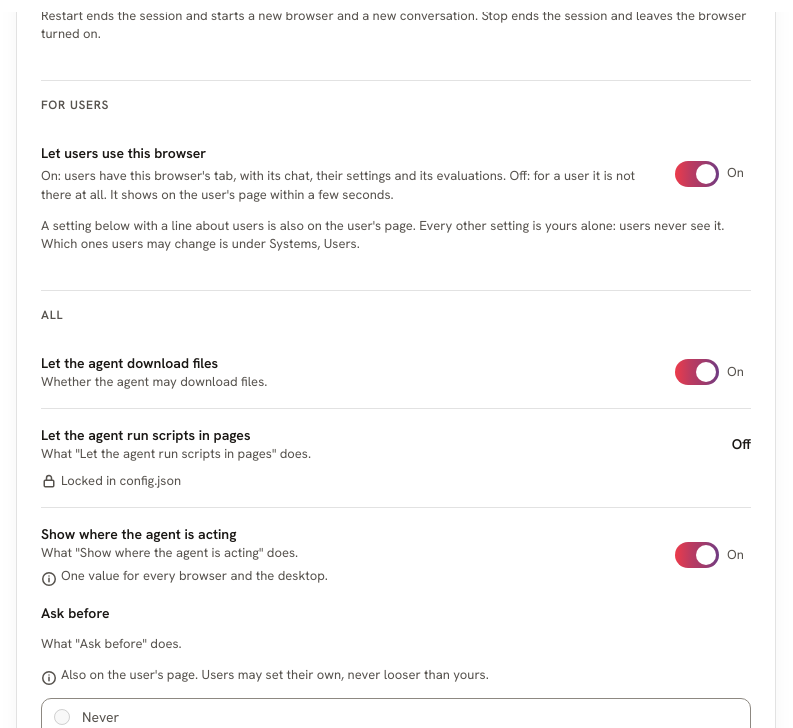
it: one browser’s configuration, for the admin (spec 9.17) › says why a change was refused
The image size is (793, 728).
(page scrolled)
Click the switch named "Let the agent download files" at (713, 372), box [675,356,751,388]
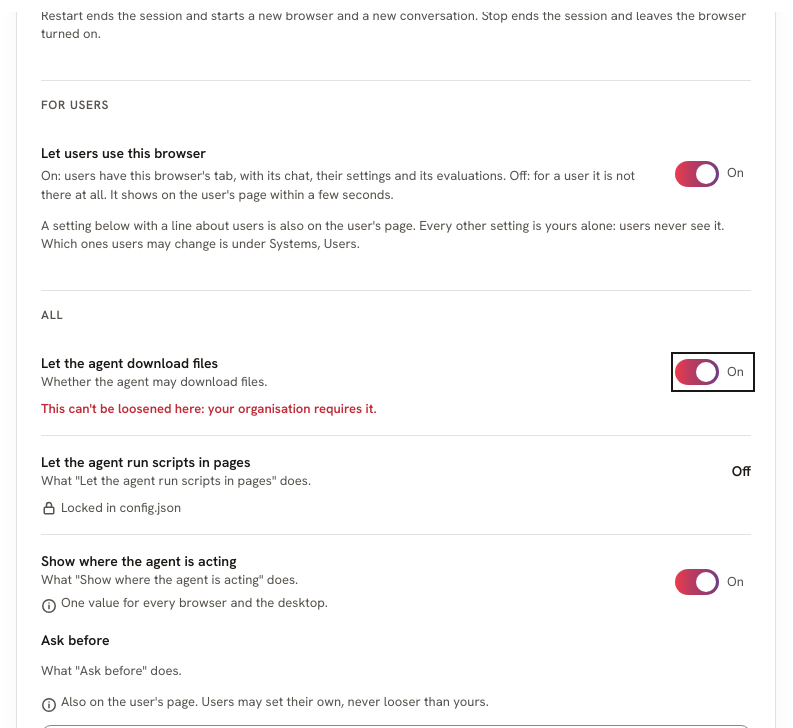
Expected: the text "This can't be loosened here: your organisation requires it." is shown, [41,400,376,417]
